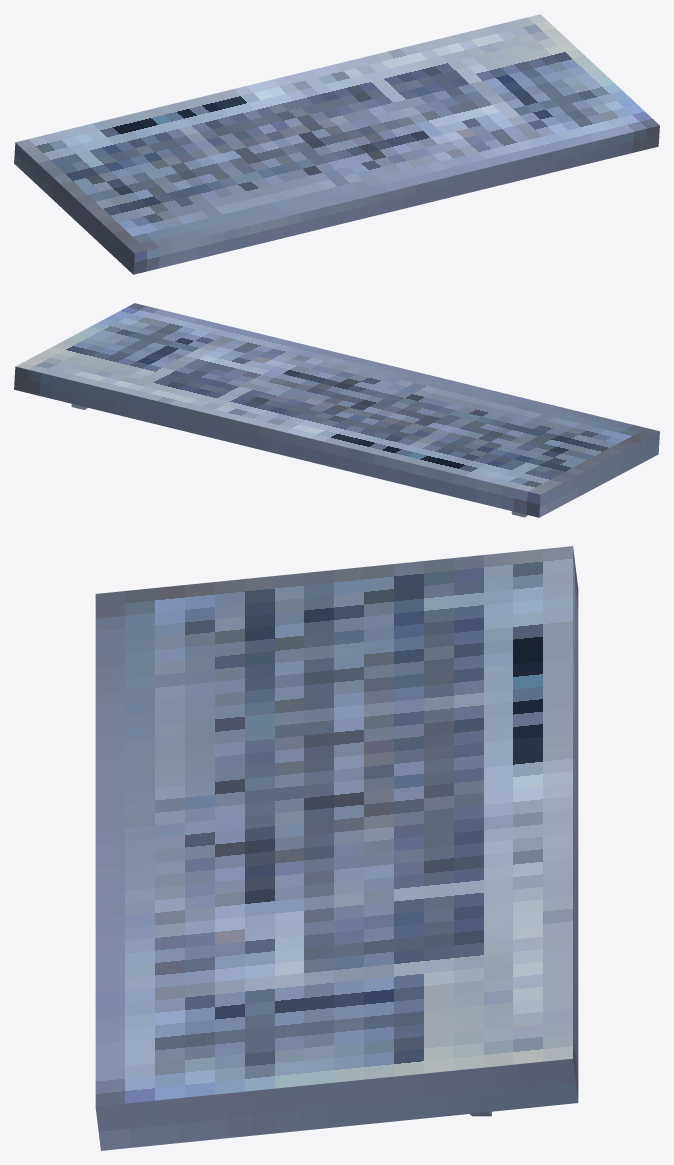
Rendered from Keyboard01.obj.
The picture shows the model from 3 angles, top to bottom: view 1: azimuth 30°, elevation 25°; view 2: azimuth 150°, elevation 25°; view 3: azimuth 270°, elevation 25°; orthographic projection. The views are drawn at different scales.
Visible parts, largest first — view 1: Keyboard01; view 2: Keyboard01; view 3: Keyboard01.
Boxes of the visible parts, bbox=[...] form: Keyboard01: bbox=[14, 14, 659, 274]; Keyboard01: bbox=[14, 303, 659, 517]; Keyboard01: bbox=[95, 546, 578, 1150].
Bounding box in the file's own units: 0.555 × 0.0469 × 0.221.
